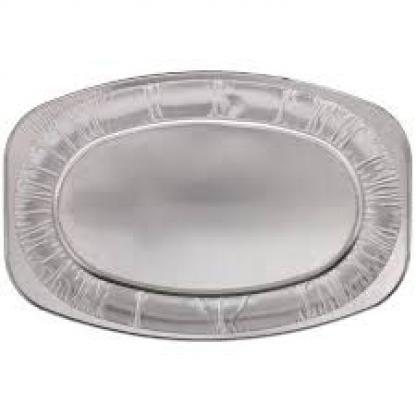METAL: (0, 66, 411, 339)
